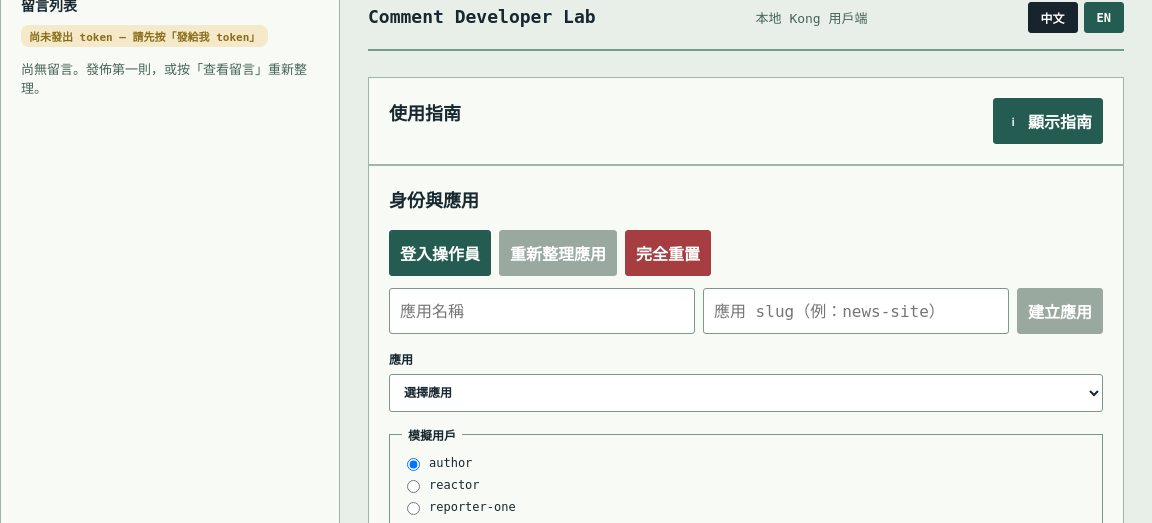
Test: Lab comment board interactions › renders the comment board with status badges and reply controls
Click the button "登入操作員" at (440, 253), box left=389, top=230, right=491, bottom=276
(page scrolled)
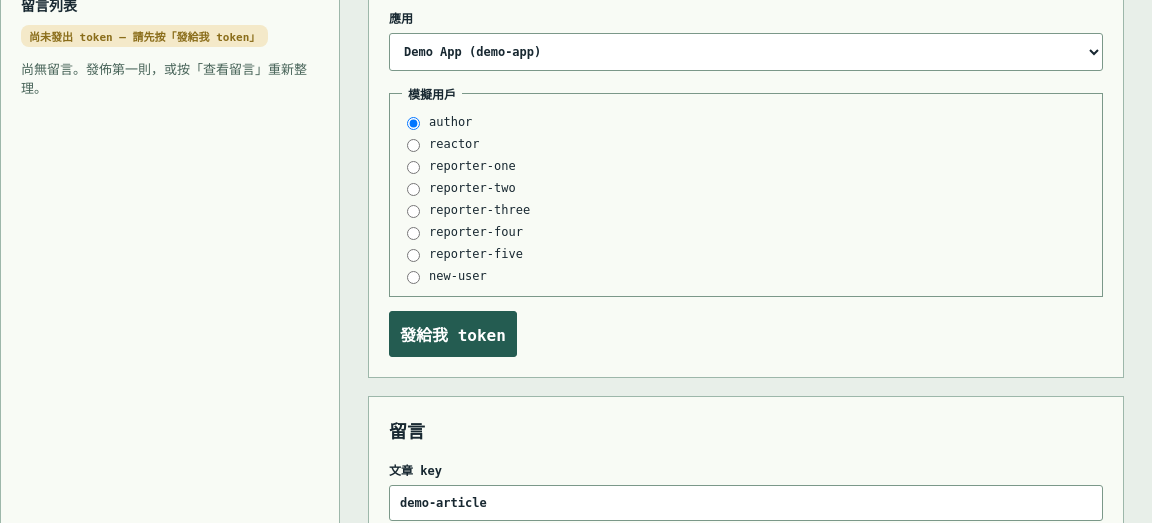
Click the button "發給我 token" at (453, 334), box left=389, top=311, right=517, bottom=357
(page scrolled)
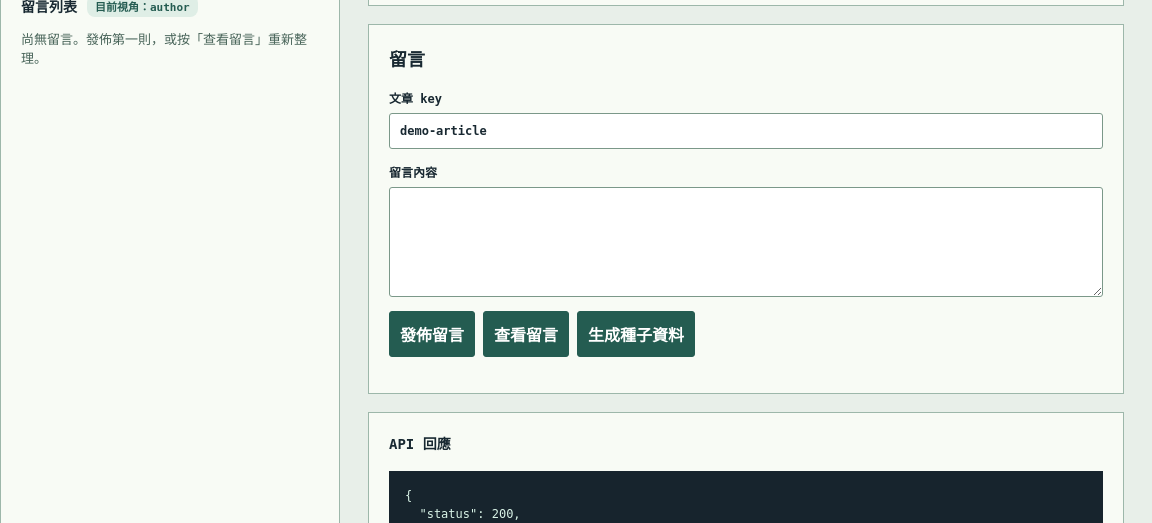
Click the button "查看留言" at (526, 334), box left=483, top=311, right=569, bottom=357
(page scrolled)
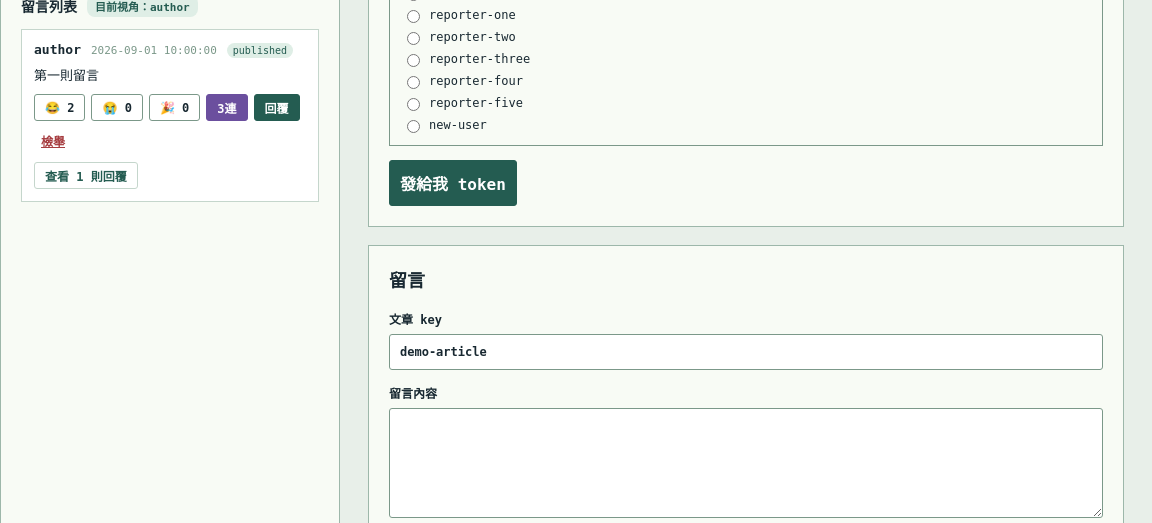
Check: the element with id "lab" shows "第一則留言", box left=34, top=68, right=99, bottom=83
Check: the element with class "comment" is shown, box left=21, top=29, right=319, bottom=202
Check: the button "回覆" is shown, box left=254, top=94, right=300, bottom=121
